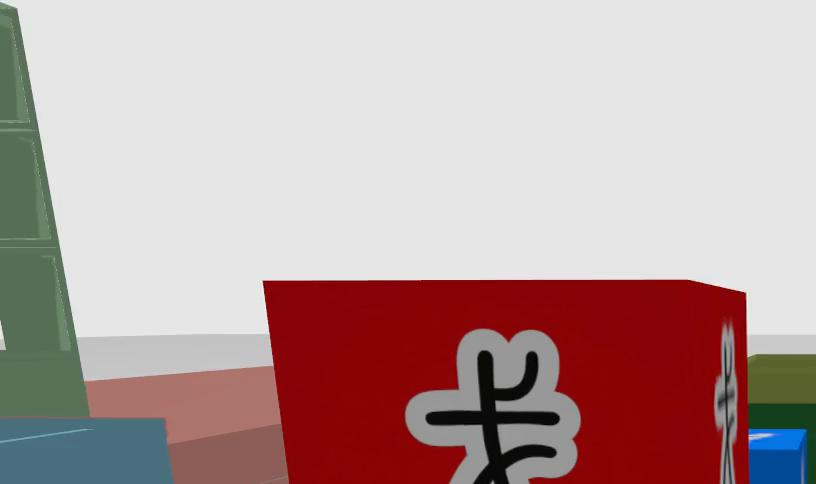KFS_FAKE: (263, 280, 753, 484), (405, 330, 580, 484), (714, 319, 737, 484), (260, 282, 263, 283)
KFS_REAL: (750, 426, 809, 484)
